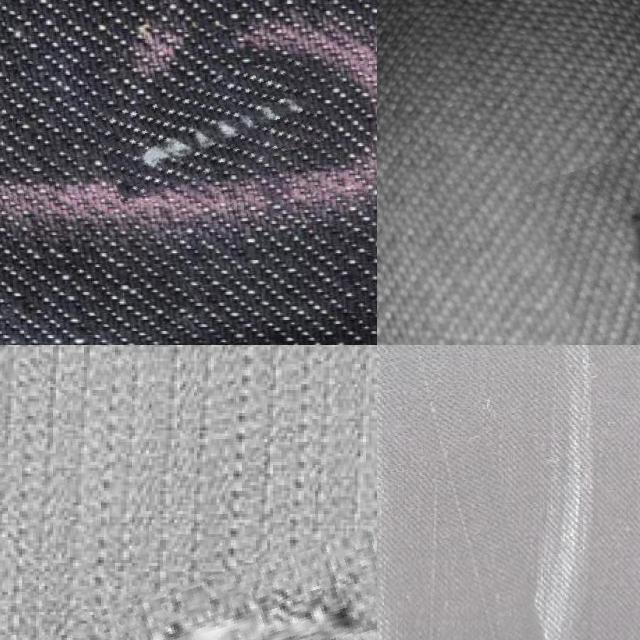other: (101, 544, 377, 640), (548, 130, 640, 345)
stains: (377, 345, 524, 640), (98, 66, 320, 186)
